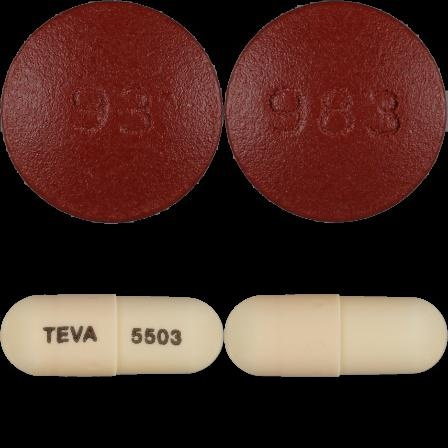42291-651: (0, 0, 224, 224)
